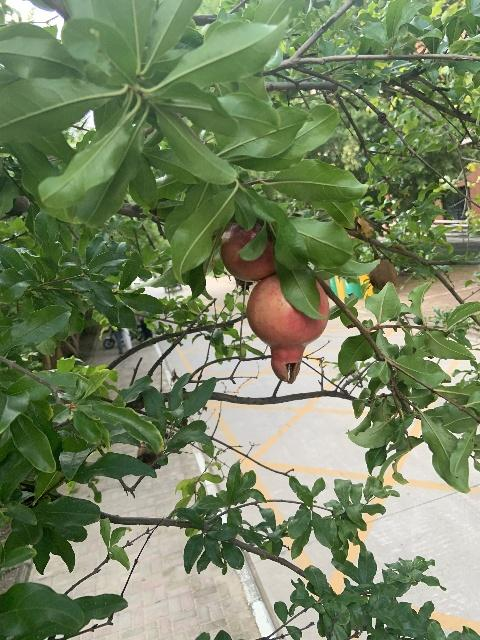ripe: (246, 273, 330, 384), (220, 222, 273, 281)
